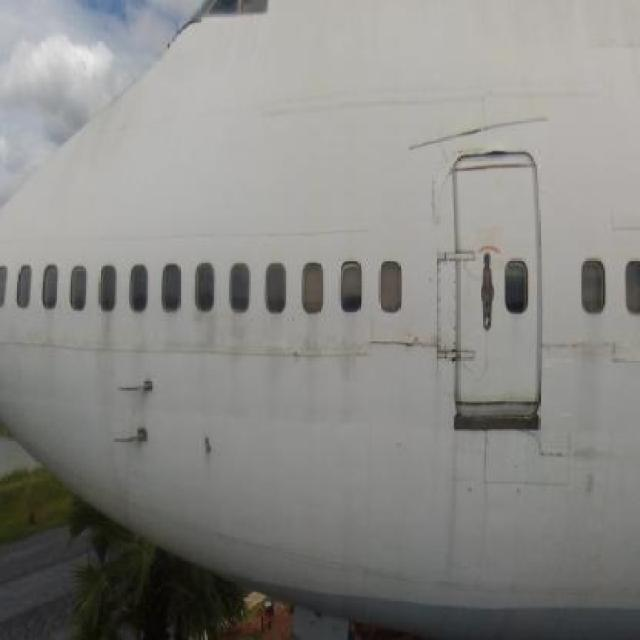Missing-Rivet: (432, 246, 463, 368)
Scartch: (404, 106, 556, 151), (361, 324, 428, 362), (424, 172, 451, 234)
